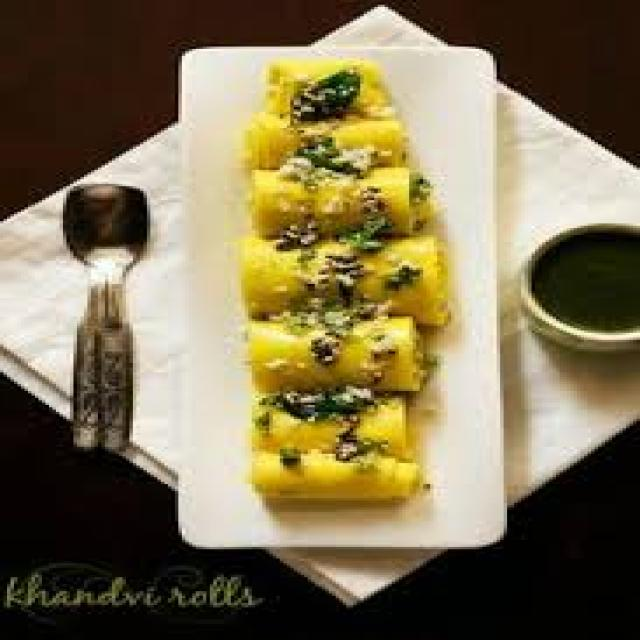DHOKLA: (241, 58, 444, 368), (252, 342, 423, 496)
